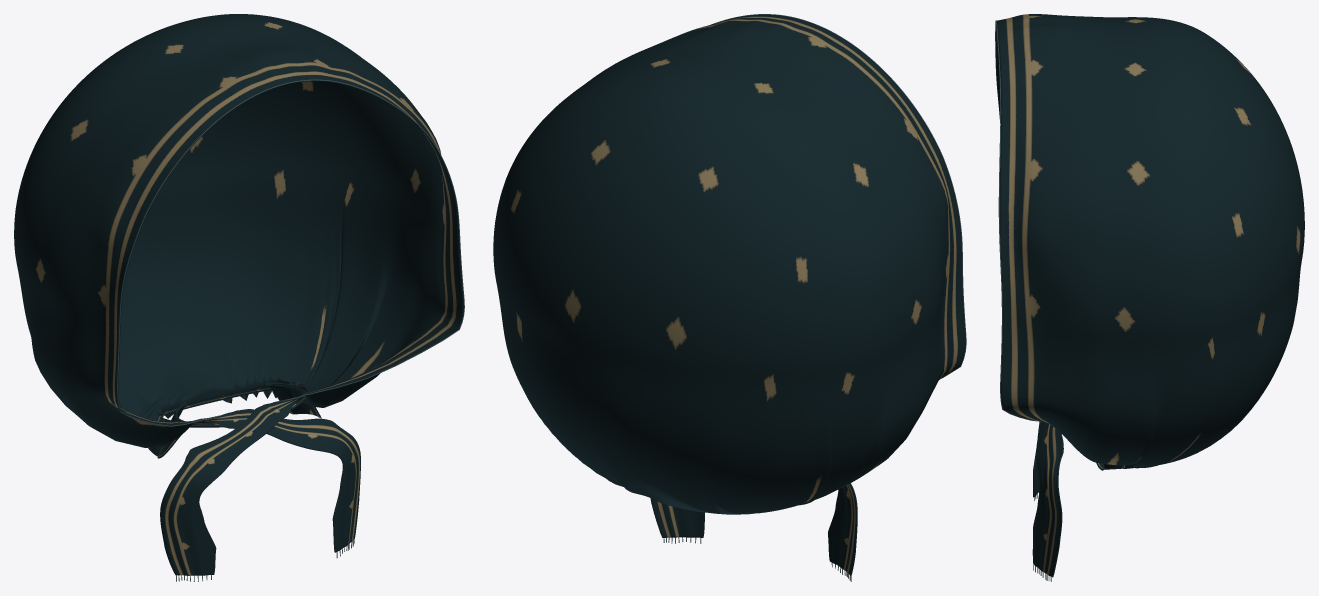
The model's file is Masculine-sidepart-buttonup-pashmina250-headgear.glb.
3 renders of one model, left to right at view 1: azimuth 30°, elevation 25°; view 2: azimuth 150°, elevation 25°; view 3: azimuth 270°, elevation 25°, orthographic. The views are drawn at different scales.
Visible parts, largest first — view 1: 226 headgear / Headwear / continuous woven pashmina239, 226 headgear / Headwear / face edge239; view 2: 226 headgear / Headwear / continuous woven pashmina239, 226 headgear / Headwear / face edge239; view 3: 226 headgear / Headwear / continuous woven pashmina239, 226 headgear / Headwear / face edge239.
Part boxes in pixels (<box>): 226 headgear / Headwear / continuous woven pashmina239: <box>14,14,463,575</box>; 226 headgear / Headwear / face edge239: <box>117,79,464,426</box>; 226 headgear / Headwear / continuous woven pashmina239: <box>493,14,965,575</box>; 226 headgear / Headwear / face edge239: <box>710,14,966,378</box>; 226 headgear / Headwear / continuous woven pashmina239: <box>995,14,1304,577</box>; 226 headgear / Headwear / face edge239: <box>995,20,1035,421</box>.
Bounding box in the file's own units: 1.07 × 1.39 × 0.7681.
3 materials, 1 textured.
